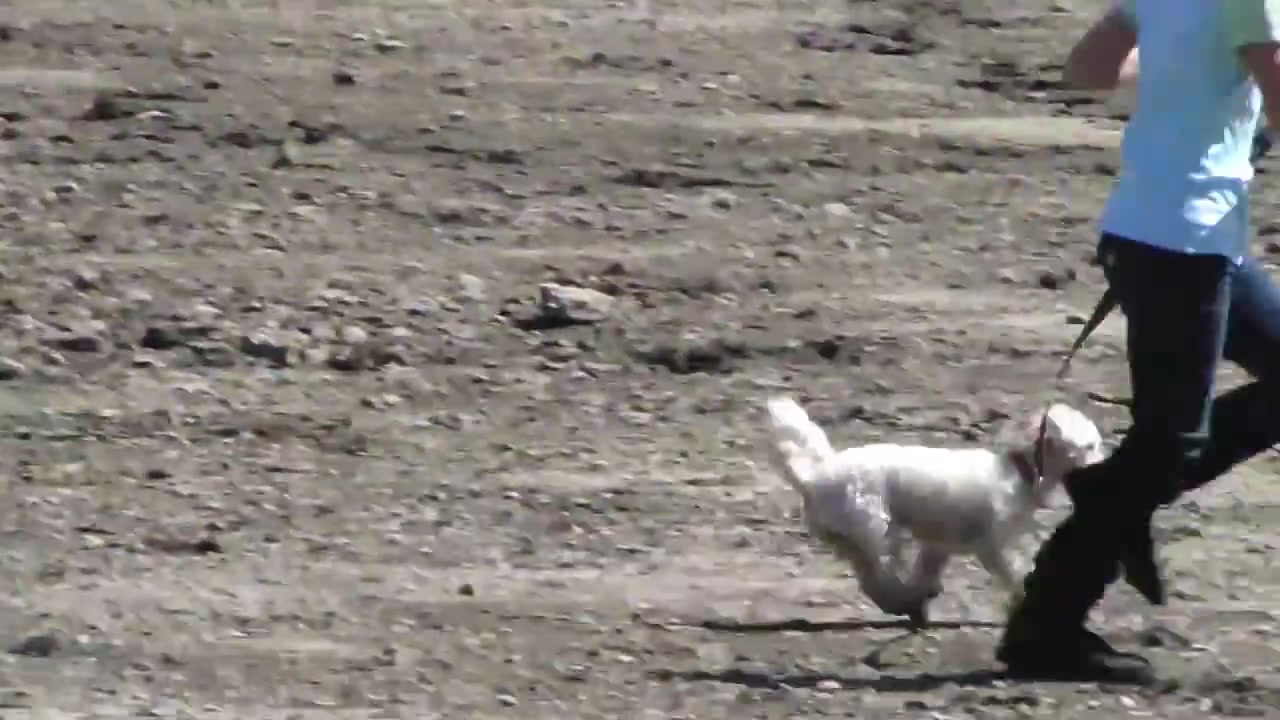dog: (759, 390, 1106, 638)
